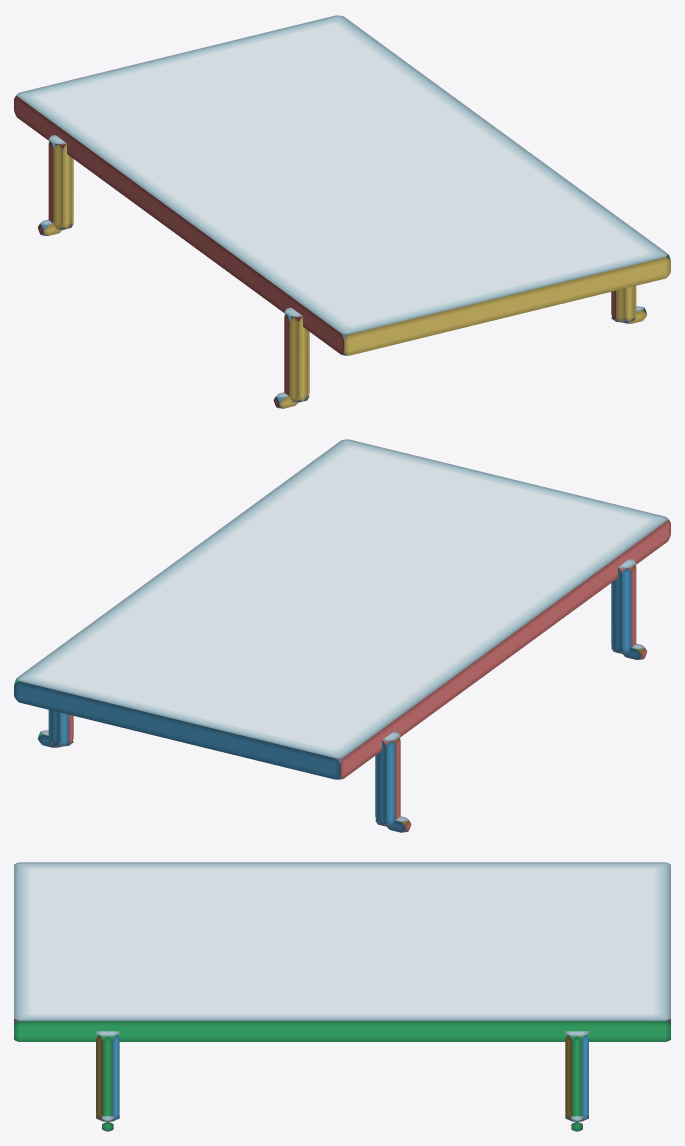
File: basic_test.obj
3 renders of one model, top to bottom at view 1: azimuth 30°, elevation 25°; view 2: azimuth 150°, elevation 25°; view 3: azimuth 270°, elevation 25°, orthographic.
Parts seen in each view (by area): view 1: cuboid, spring_frontright, spring_rearright, spring_frontleft; view 2: cuboid, spring_rearright, spring_frontright, spring_rearleft; view 3: cuboid, spring_rearleft, spring_frontleft.
Part boxes in pixels (x1,y1,x2,y2): cuboid: (14, 15, 670, 355); spring_frontright: (284, 307, 309, 402); spring_rearright: (48, 135, 73, 229); spring_frontleft: (611, 286, 636, 322); cuboid: (14, 439, 670, 779); spring_rearright: (375, 731, 400, 826); spring_frontright: (611, 559, 636, 653); spring_rearleft: (48, 710, 73, 746); cuboid: (14, 862, 670, 1041); spring_rearleft: (565, 1031, 588, 1121); spring_frontleft: (96, 1031, 119, 1121).
Bounding box in the file's own units: 2.25 × 0.5938 × 3.5.
